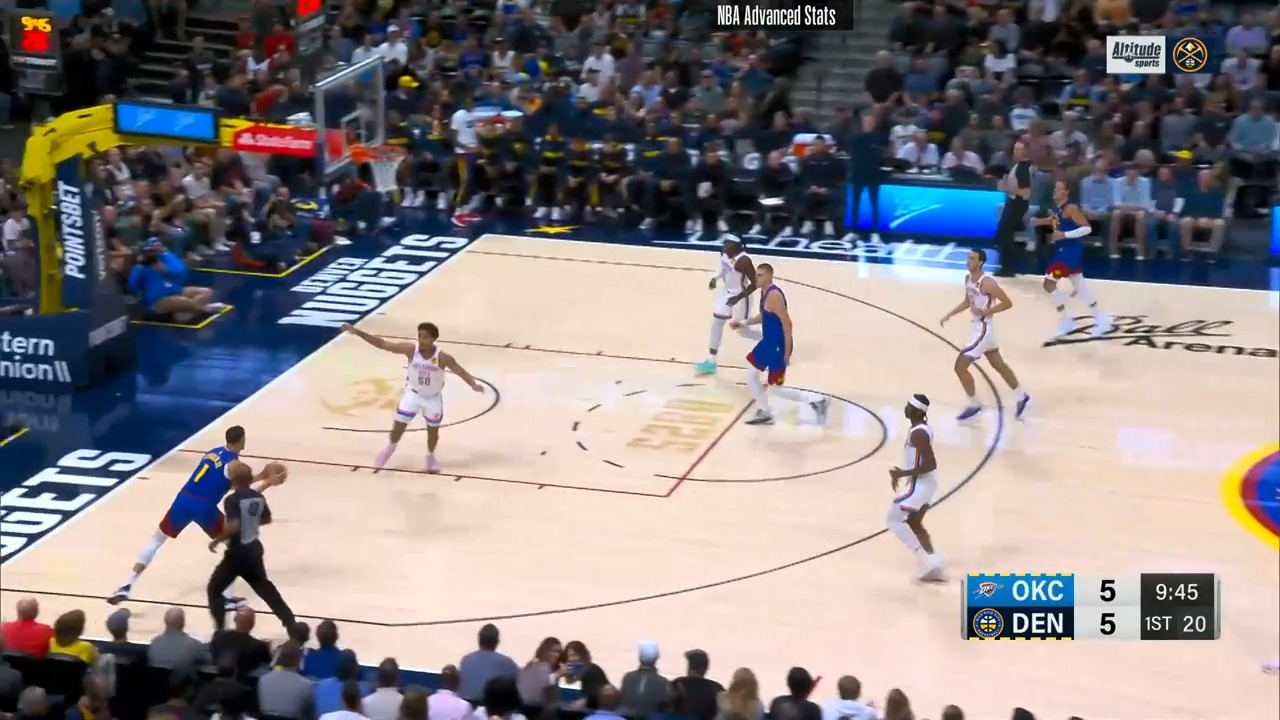net: (344, 138, 410, 195)
player: (113, 422, 266, 610), (341, 318, 493, 477), (933, 248, 1031, 434), (873, 392, 955, 589), (730, 258, 819, 435), (1043, 176, 1119, 343), (697, 236, 764, 386)
referee: (205, 457, 308, 639), (984, 137, 1042, 278)
